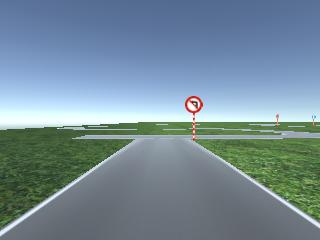0: (1, 195, 320, 239)
NoLeft: (185, 95, 204, 114)
